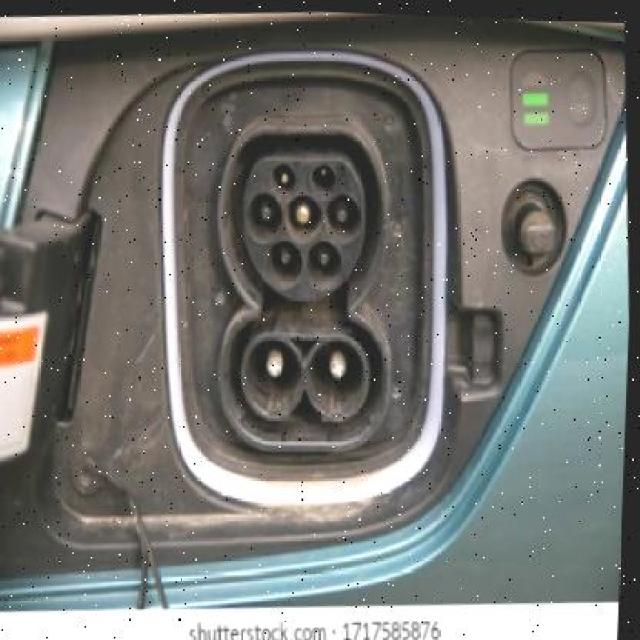CCS2: (182, 116, 418, 484)
